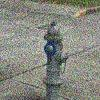a fire hydrant: (44, 22, 68, 86)
